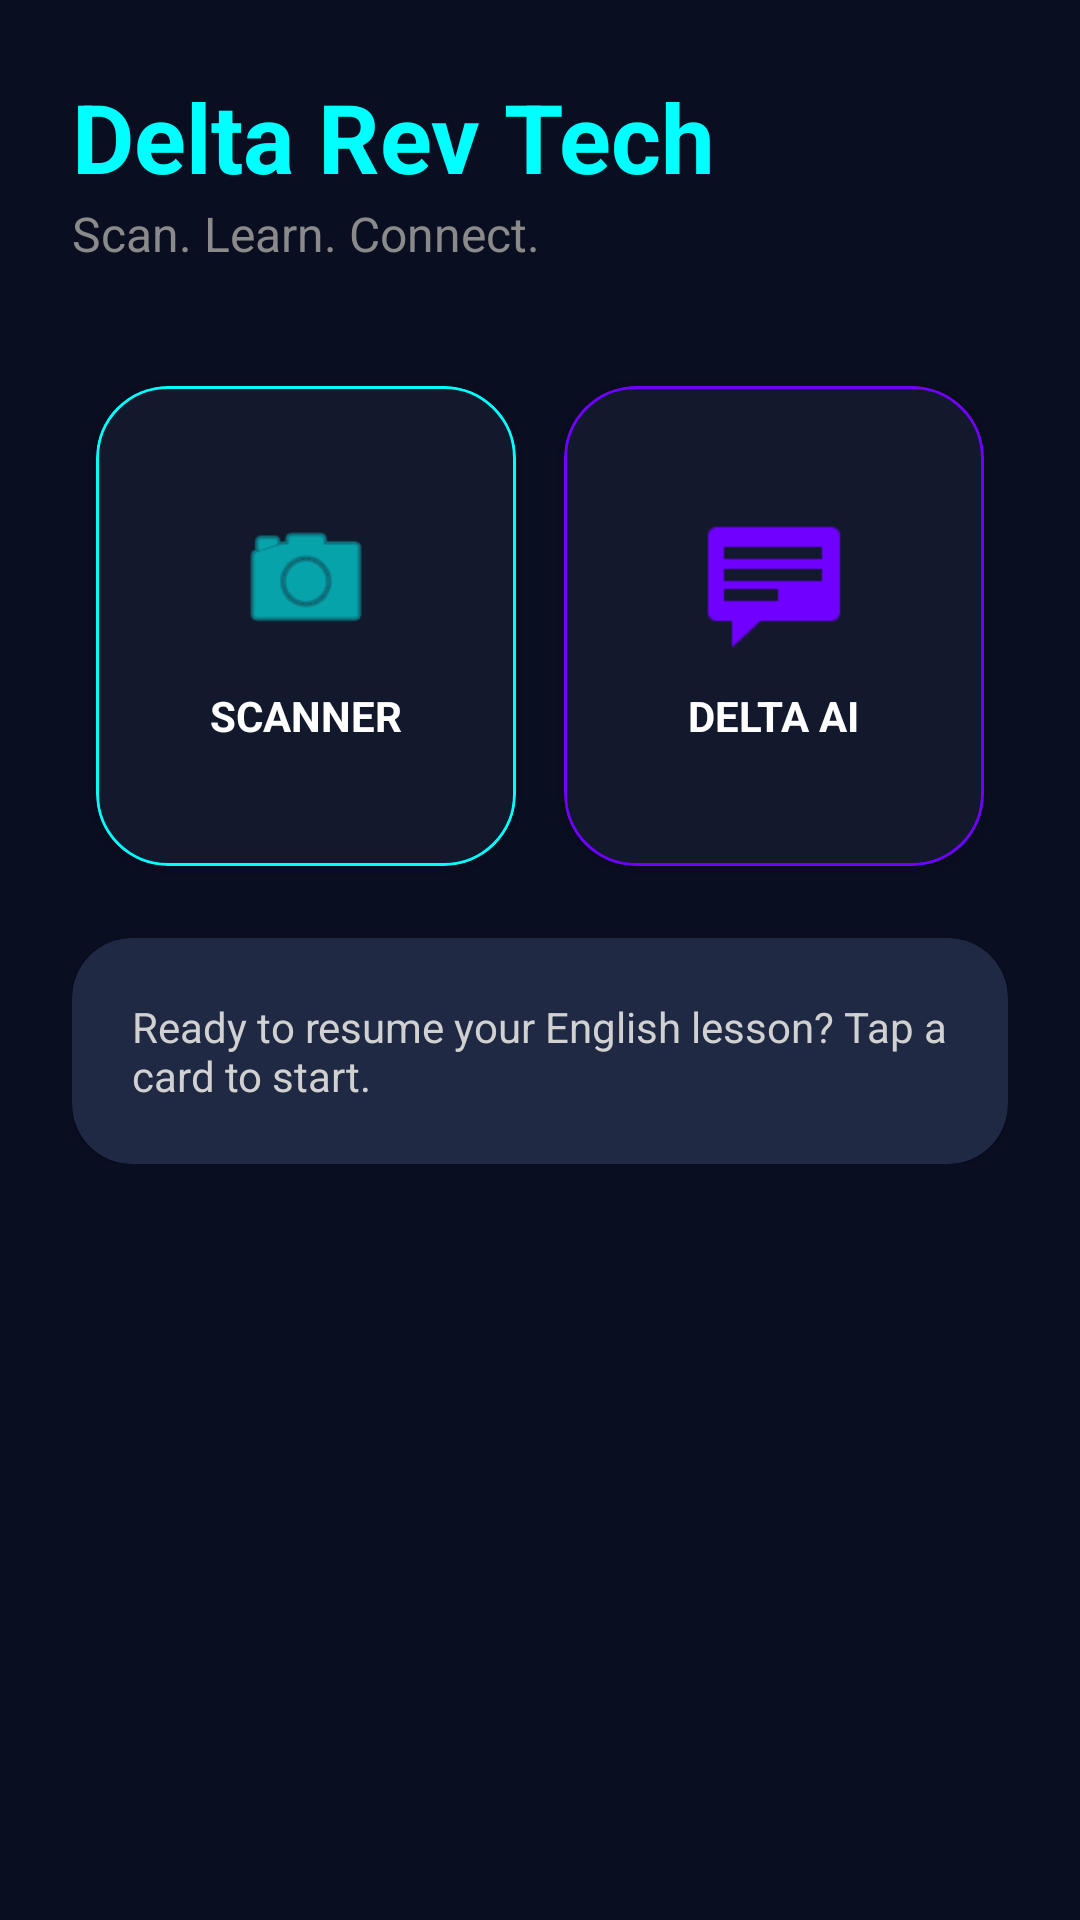

Icons on this 1080 × 1920 Android screen, each with its box as (x1, y1, x2, y2):
camera: (250, 532, 362, 621)
chat: (707, 526, 841, 648)
